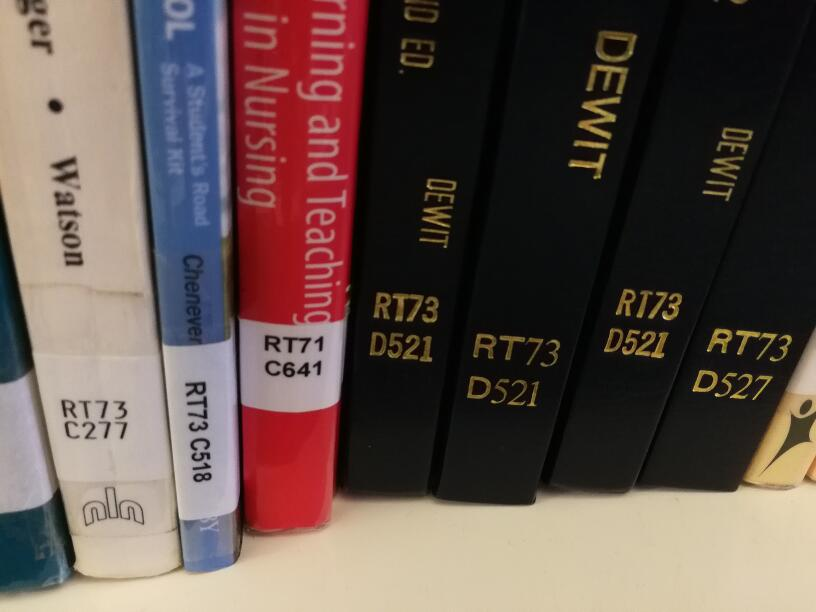booklabel: (690, 320, 795, 406), (464, 329, 562, 412), (603, 283, 686, 364), (365, 288, 441, 366), (180, 378, 216, 483), (57, 394, 130, 442), (261, 332, 324, 381)
